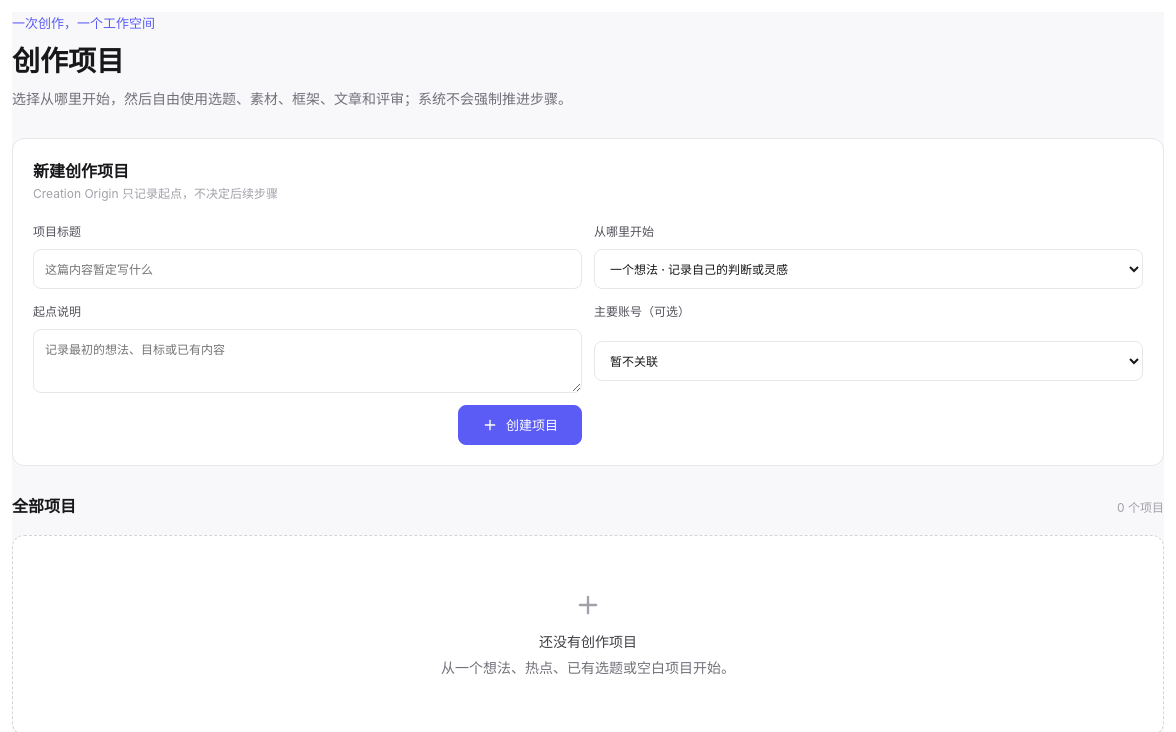
Test: ProjectWorkspace › creates a project from an explicit origin without asking for a workflow step
The image size is (1176, 732).
Expected: the text "还没有创作项目" is shown, [539,631,637,653]
Type "第一篇文章" into the field labelled "项目标题" at (308, 269), box [33,249,582,289]
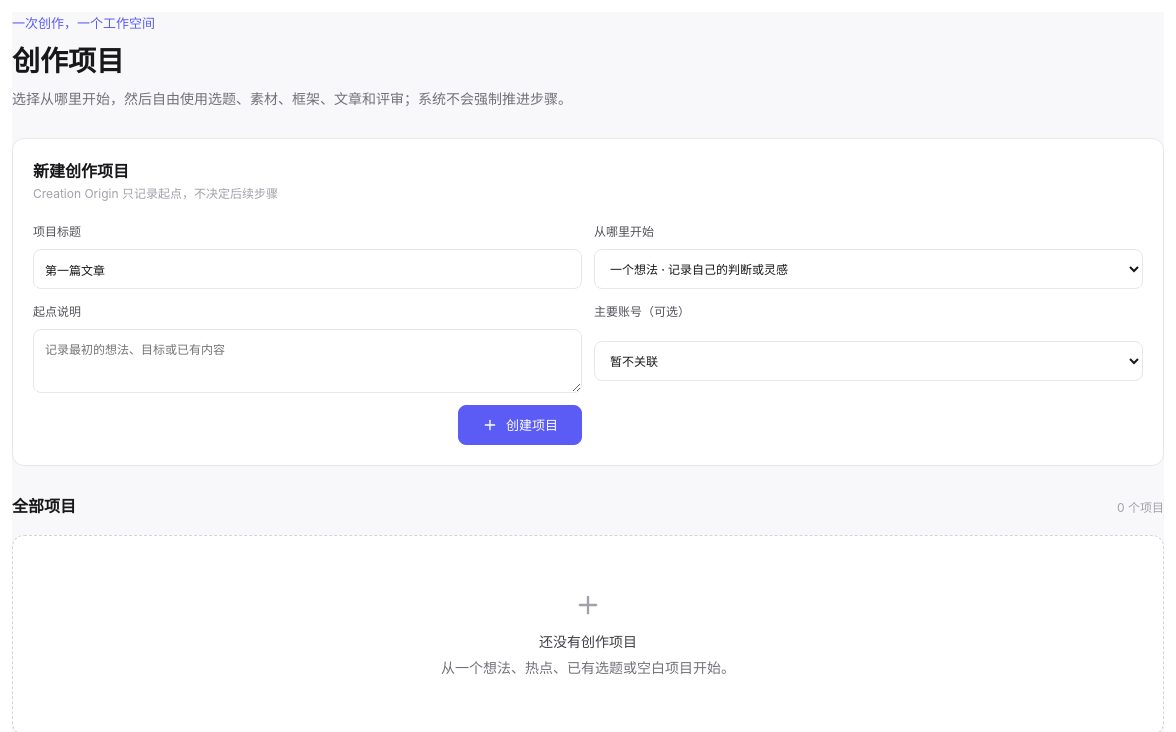
Select "一个想法 · 记录自己的判断或灵感" in the dropdown labelled "从哪里开始" at (868, 269), box [594,249,1143,289]
Click the button "创建项目" at (520, 425), box [458,405,582,445]
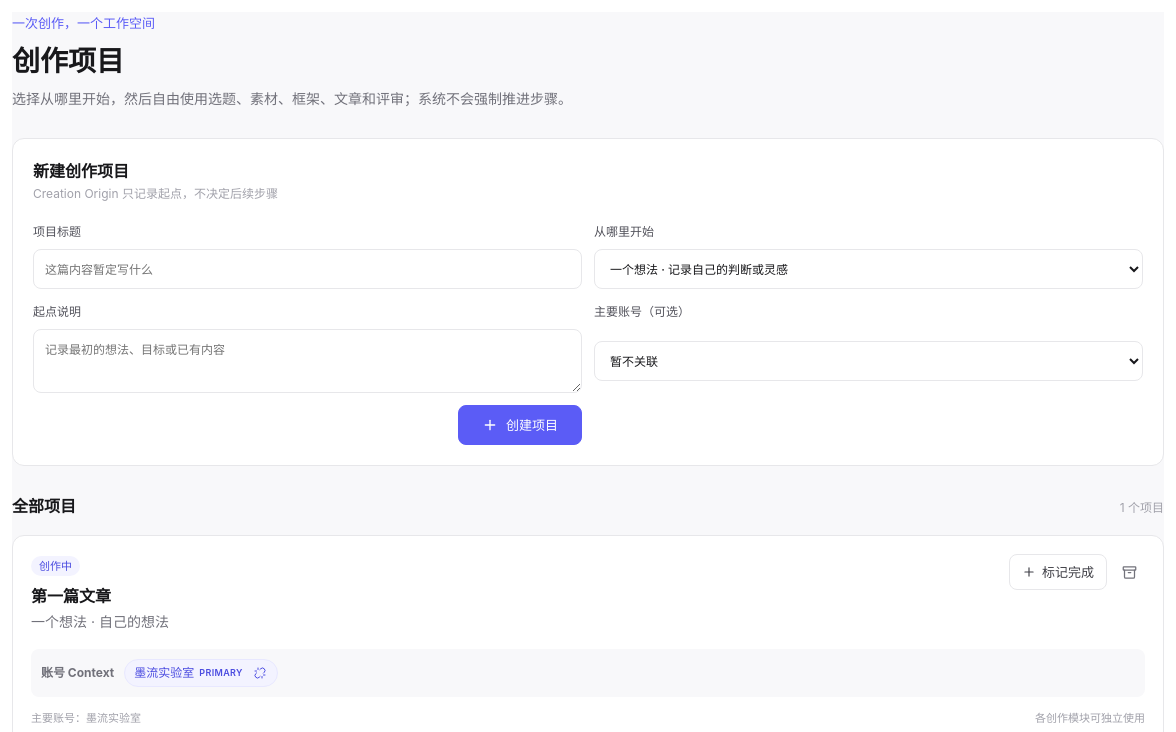
Now the heading "第一篇文章" is shown, box [31,586,111,606]
